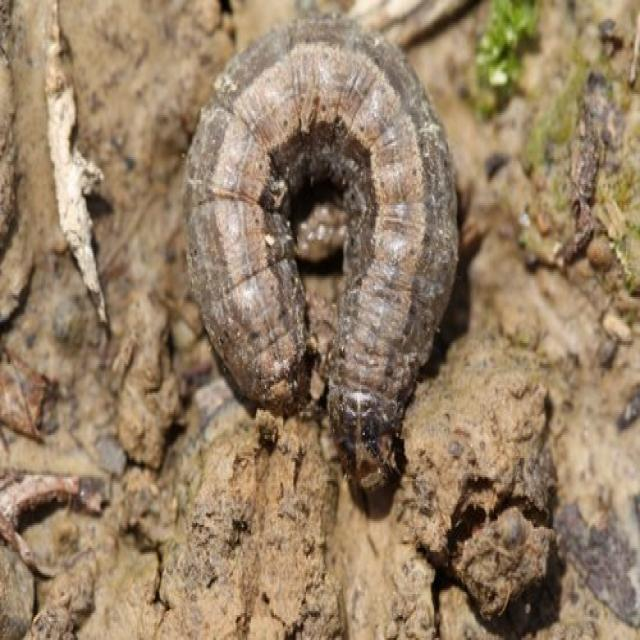Cutworm: (182, 12, 461, 497)
